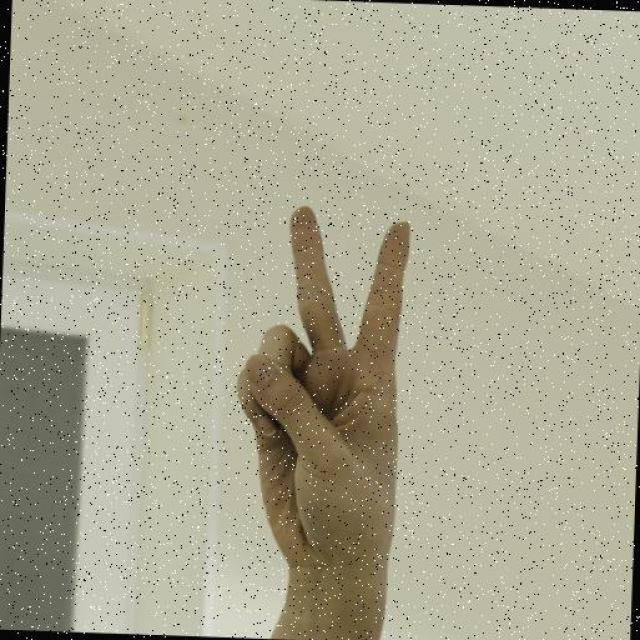V: (228, 203, 412, 572)
